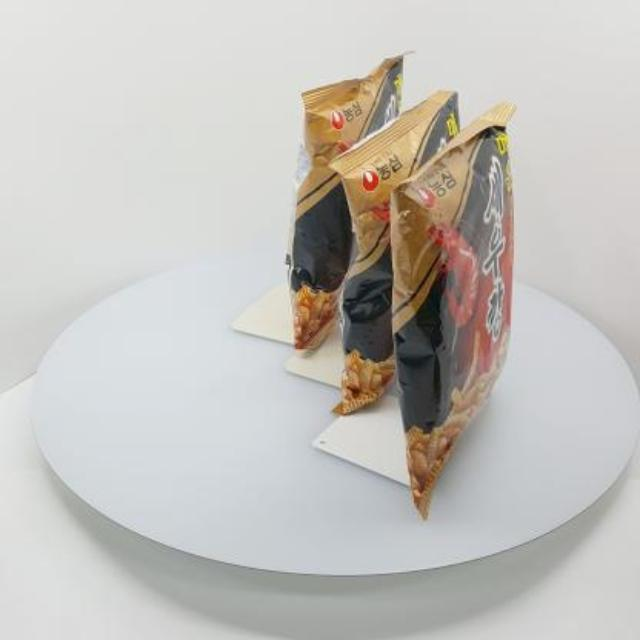snack_bag: (276, 36, 548, 538)
